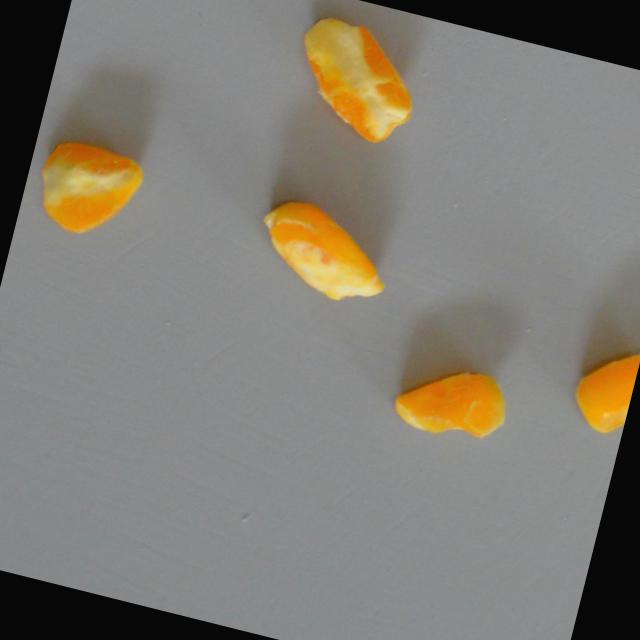dañado: (245, 187, 403, 314), (24, 130, 153, 249)
pelicula: (277, 6, 436, 153), (386, 352, 514, 454), (564, 331, 640, 440)
